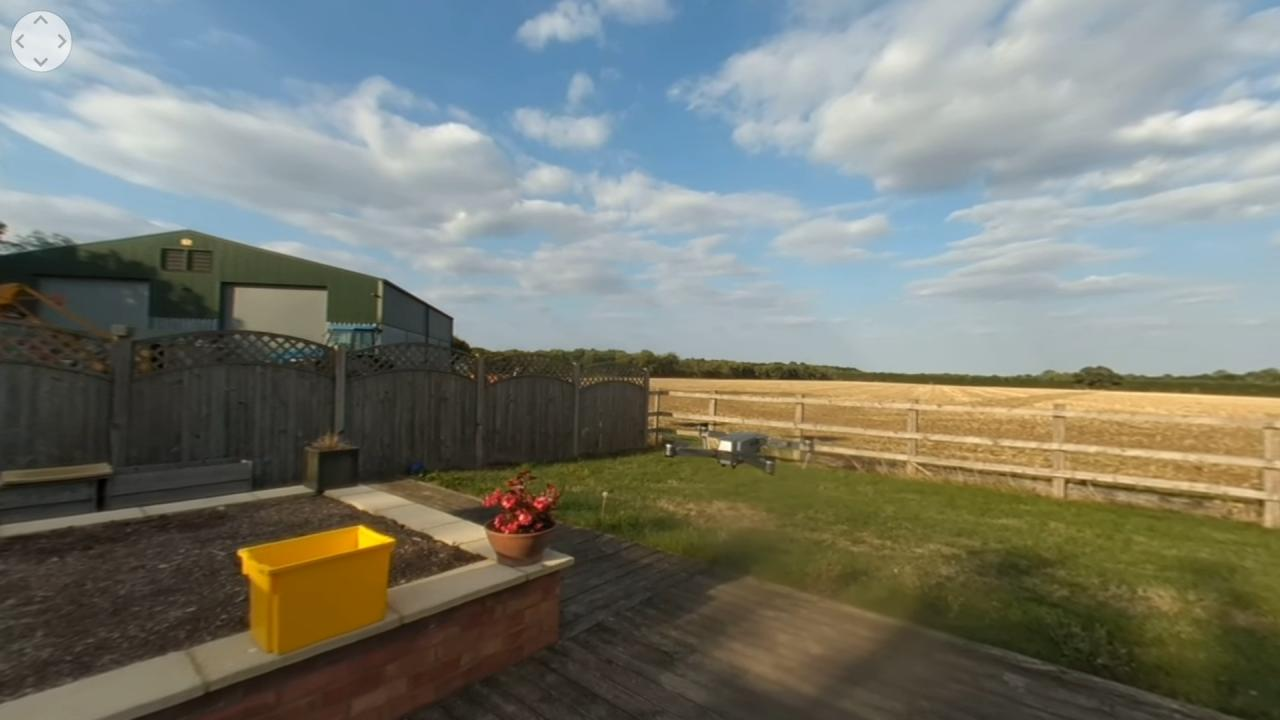Drone: (647, 410, 857, 485)
